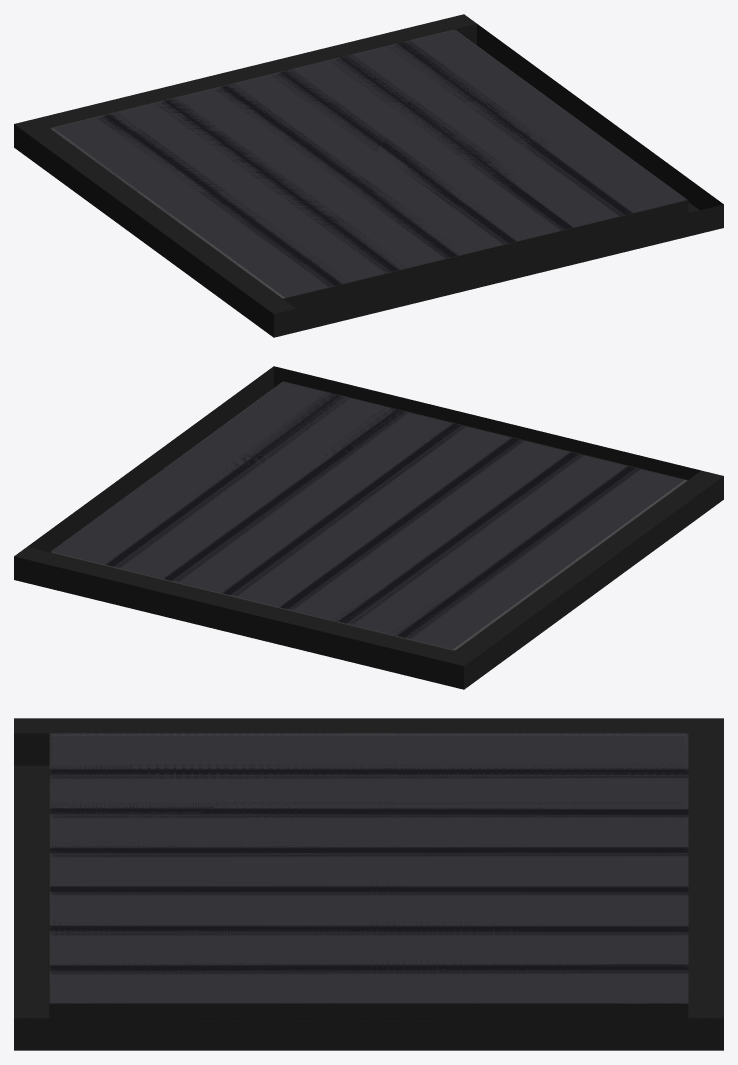
File: ceilingParts.fbx
3 views of the same model, one above another, from view 1: azimuth 30°, elevation 25°; view 2: azimuth 150°, elevation 25°; view 3: azimuth 270°, elevation 25° (orthographic). The views are drawn at different scales.
Visible parts, largest first — view 1: Ceiling, EdgeCeiling, CornerCeiling; view 2: Ceiling, EdgeCeiling, CornerCeiling; view 3: EdgeCeiling, Ceiling, CornerCeiling.
Part boxes in pixels (x1,y1,x2,y2): Ceiling: (14,24,723,337); EdgeCeiling: (14,29,723,331); CornerCeiling: (37,14,722,328); Ceiling: (14,366,723,689); EdgeCeiling: (14,367,723,684); CornerCeiling: (14,367,698,660); EdgeCeiling: (14,718,723,1050); Ceiling: (14,733,723,1050); CornerCeiling: (14,733,723,1018).
Size of the model in its own units: 200 by 200 by 10.
